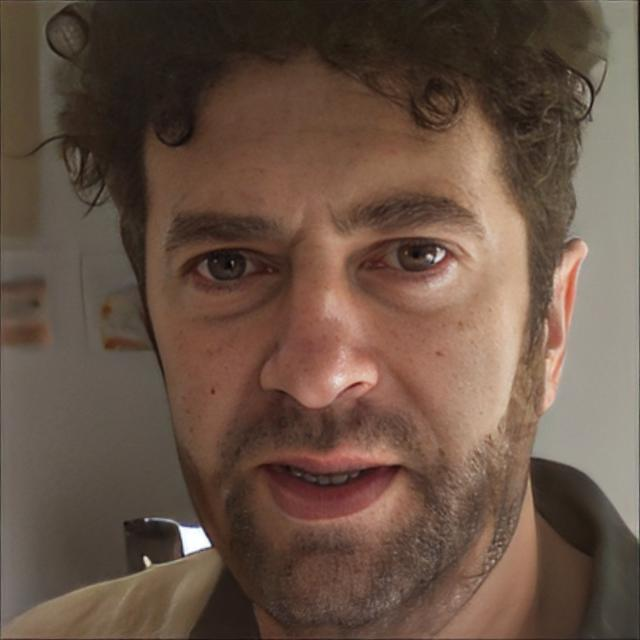disgust: (145, 53, 537, 632)
